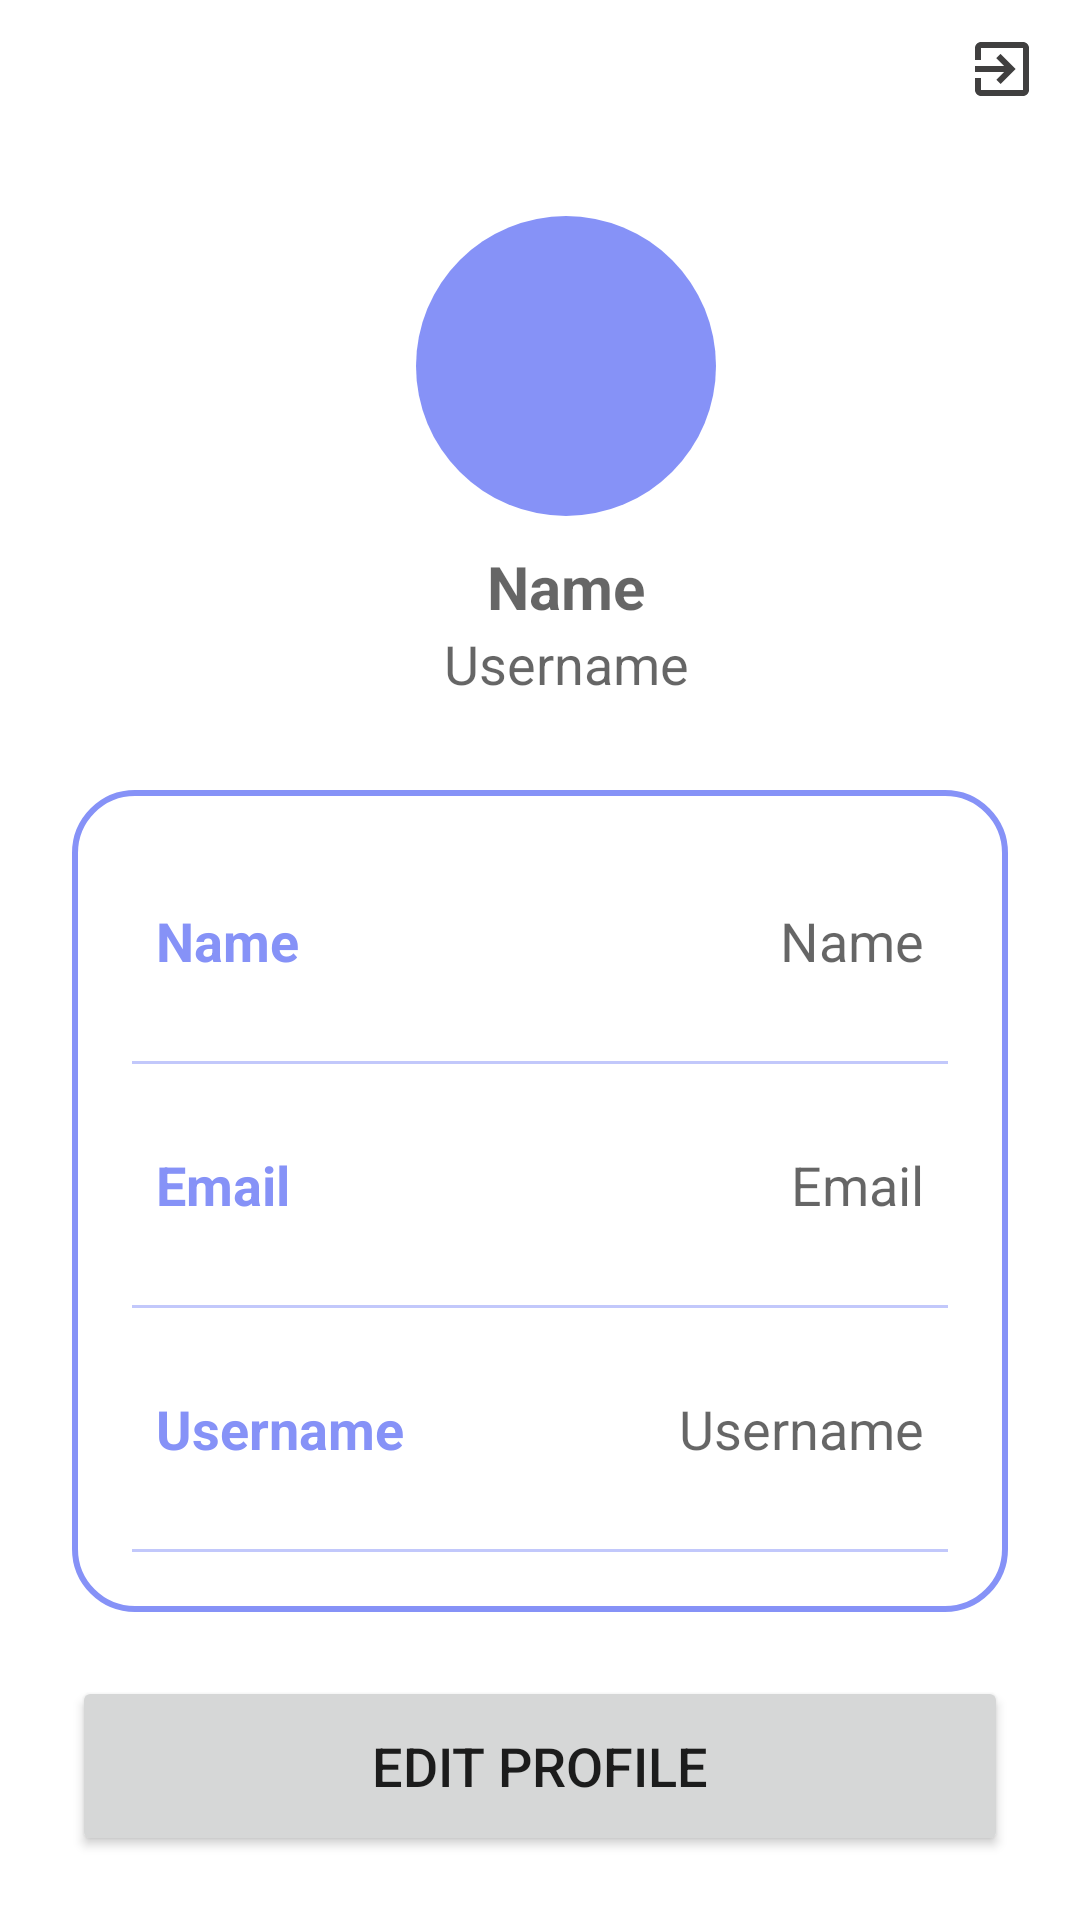

Icon bounding boxes for this 1080px×1920px phone screenshot, format bbox(x1, y1, x2, y2):
exit to app: bbox(975, 42, 1029, 96)
